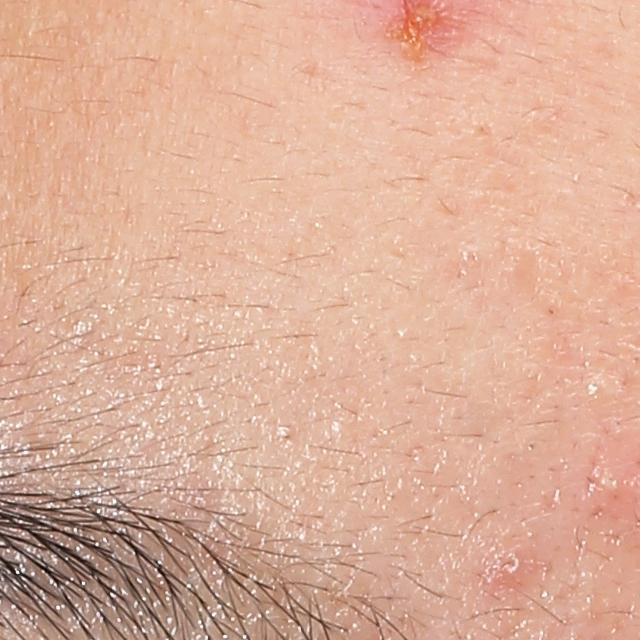papule: (490, 545, 531, 589)
